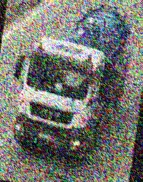truck: (2, 0, 136, 168)
